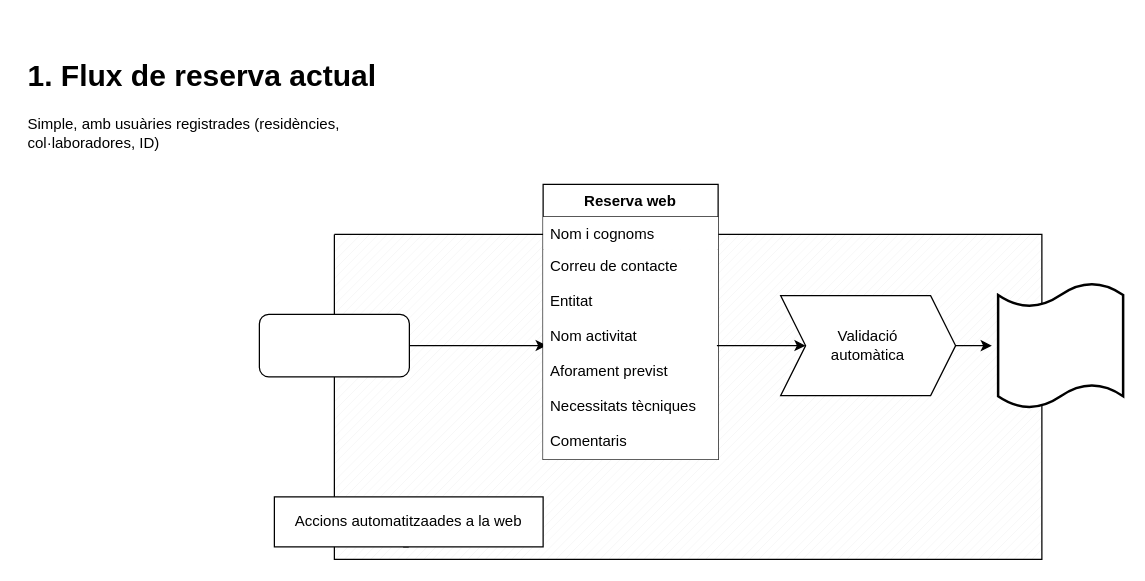
Some shapes in this 1145 by 581 pixel diagram are drawn without their labels. Each missing label, with the centre of its shape:
Calendari de reserves web BOOKED: pixel 1060 345
Usuària registrada (login): pixel 333 345
